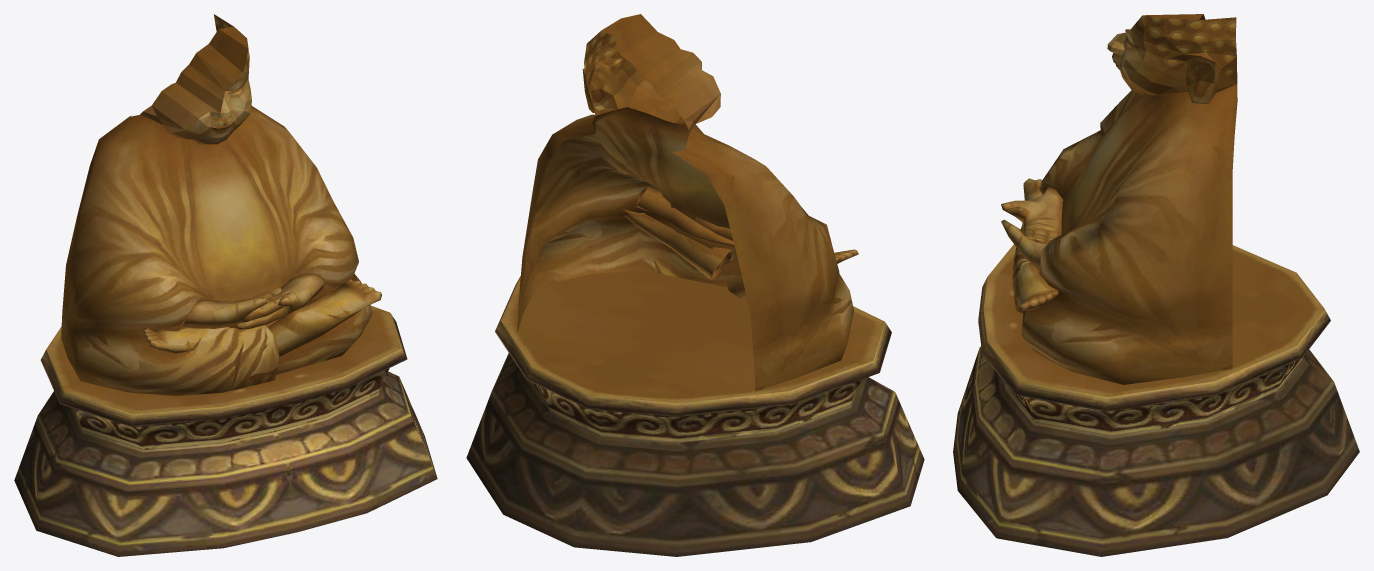
Rendered from q01c_building_024.FBX.
3 renders of one model, left to right at view 1: azimuth 30°, elevation 25°; view 2: azimuth 150°, elevation 25°; view 3: azimuth 270°, elevation 25°, orthographic. The views are drawn at different scales.
Visible parts, largest first — view 1: q01c_building_024_01; view 2: q01c_building_024_01; view 3: q01c_building_024_01.
Part boxes in pixels (left/top/right/bottom): q01c_building_024_01: left=14, top=14, right=437, bottom=556; q01c_building_024_01: left=466, top=14, right=924, bottom=556; q01c_building_024_01: left=953, top=14, right=1359, bottom=556.
Bounding box in the file's own units: 399 × 406 × 327.
